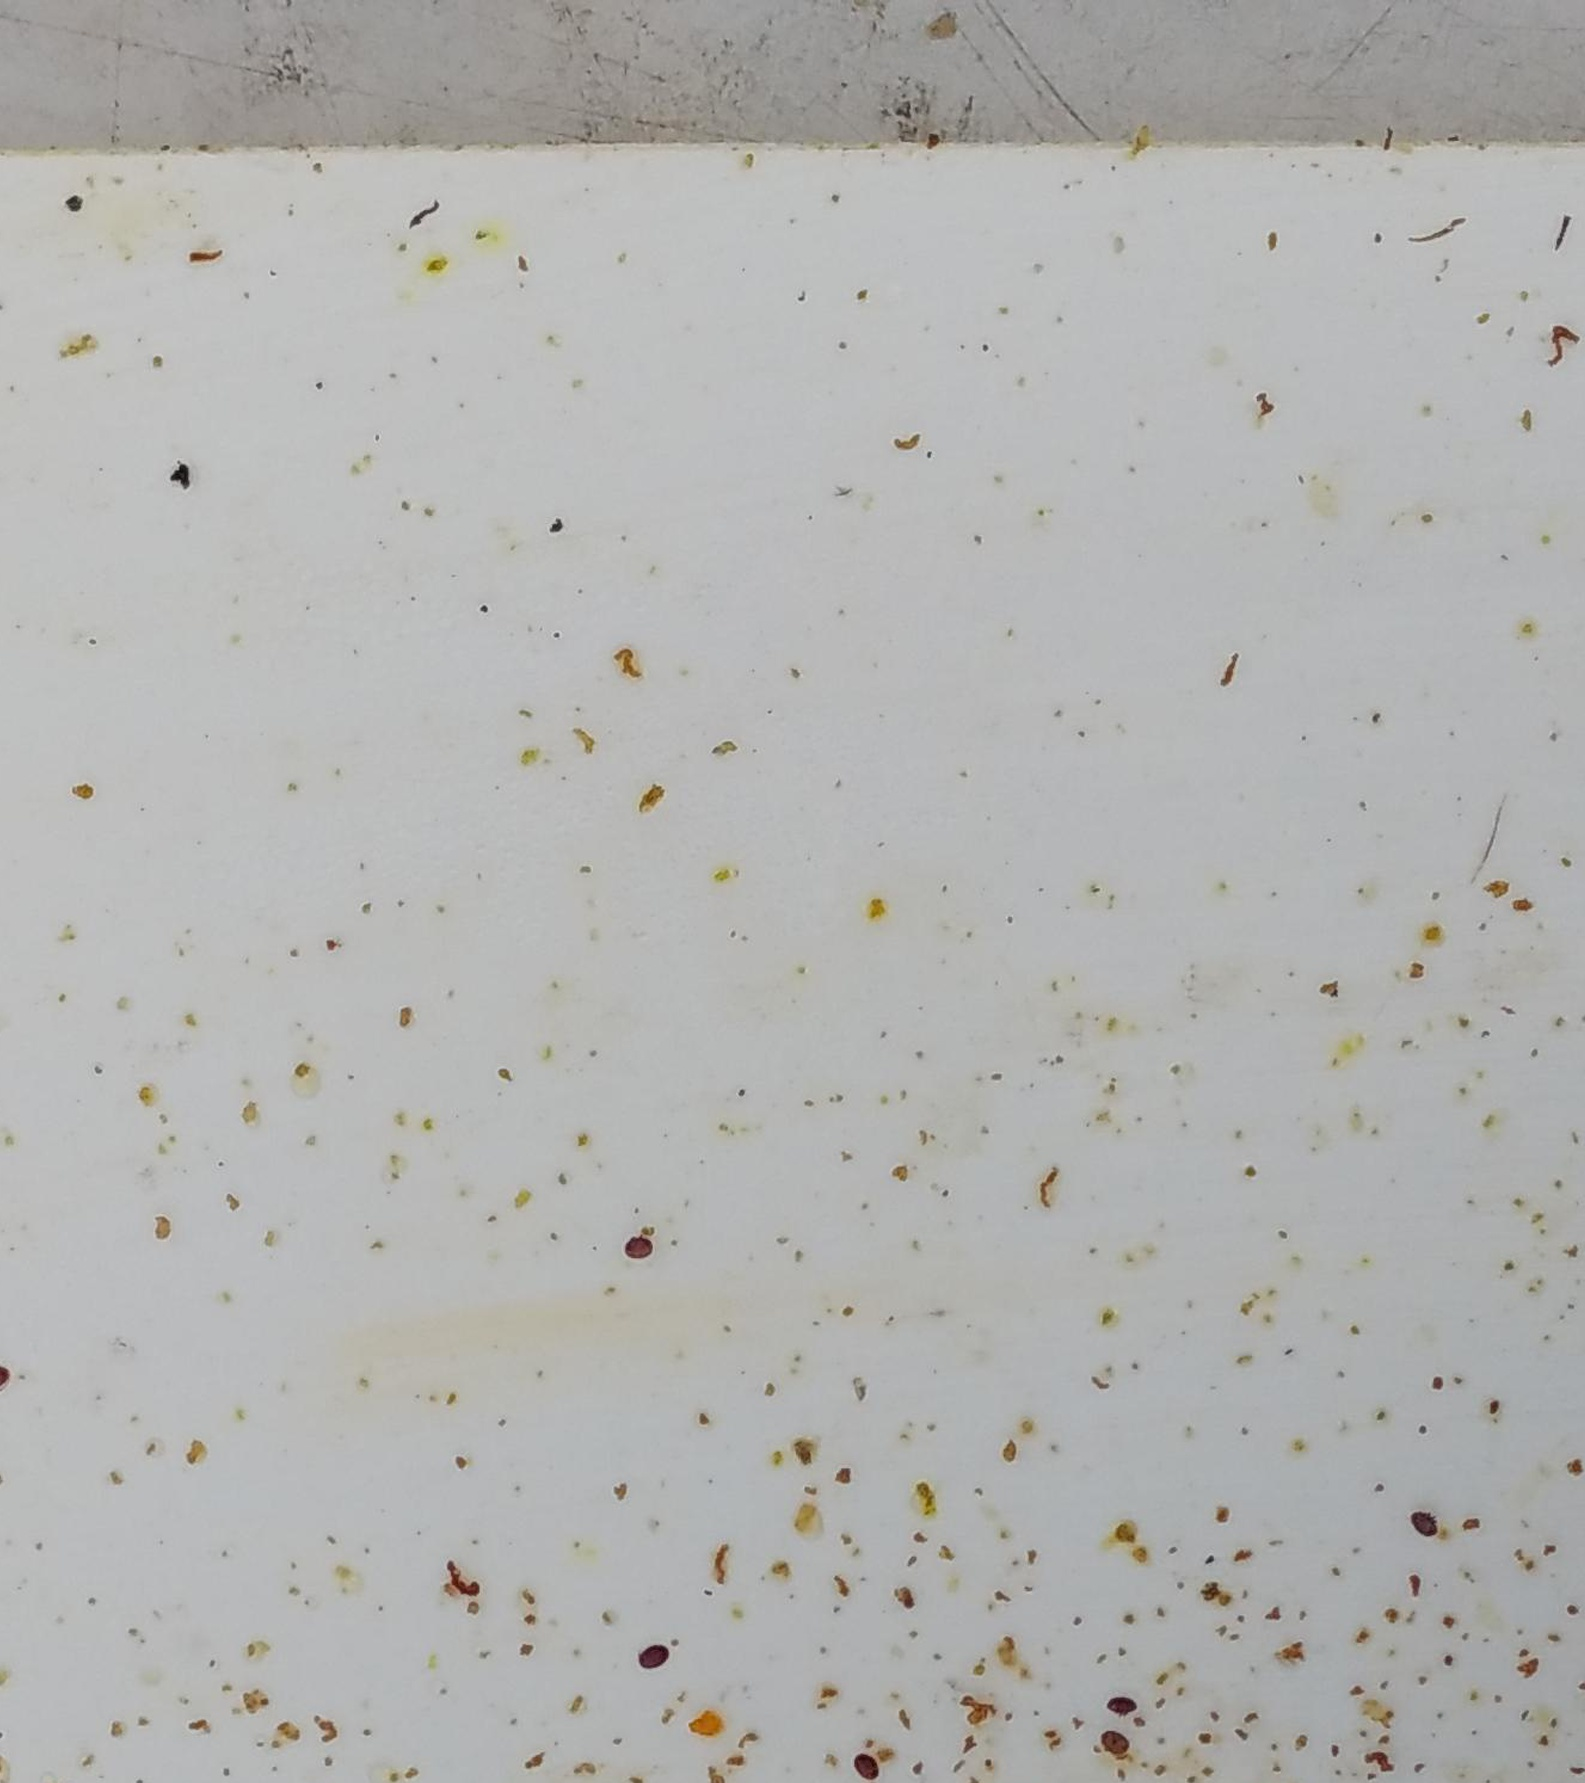Varroa: (1108, 1682, 1134, 1710), (641, 1642, 664, 1667), (860, 1746, 881, 1772), (1414, 1515, 1434, 1540), (1109, 1728, 1131, 1746), (629, 1234, 647, 1250)
